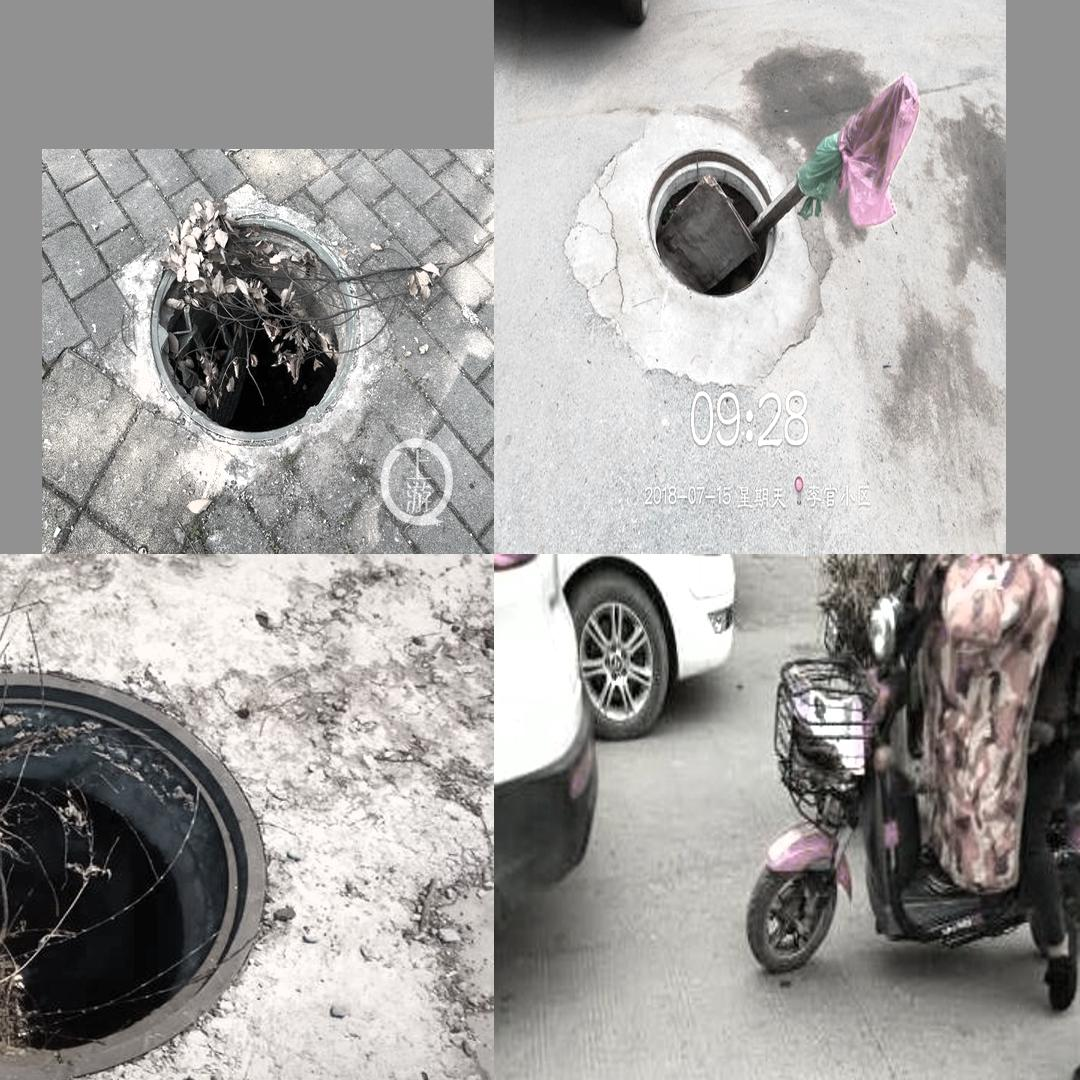lose: (0, 666, 281, 1075), (151, 206, 359, 446), (623, 131, 788, 316)
